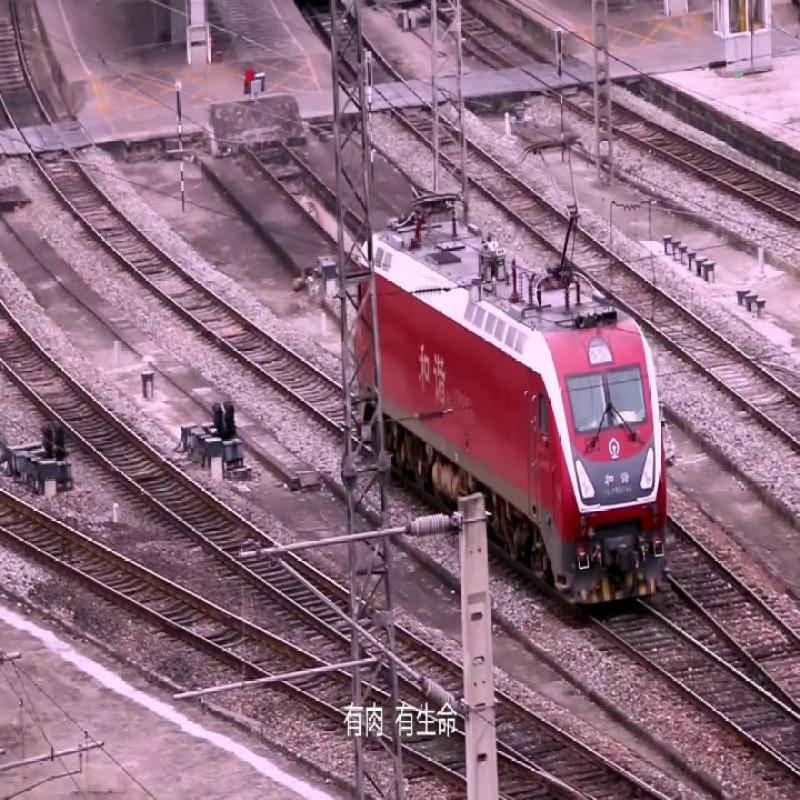train: (352, 220, 677, 619)
